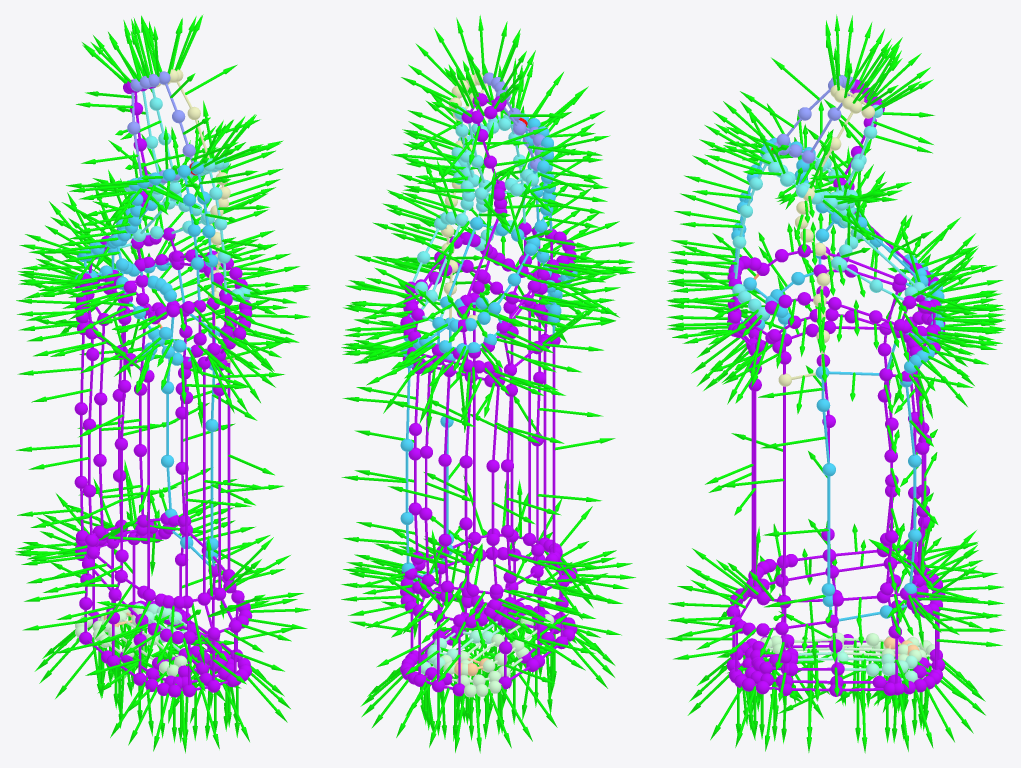
Rendered from flowrep_bottle.gltf.
The picture shows the model from 3 angles, left to right: view 1: azimuth 30°, elevation 25°; view 2: azimuth 150°, elevation 25°; view 3: azimuth 270°, elevation 25°; orthographic projection.
Bounding box in the file's own units: 0.3717 × 1.13 × 0.5005.
